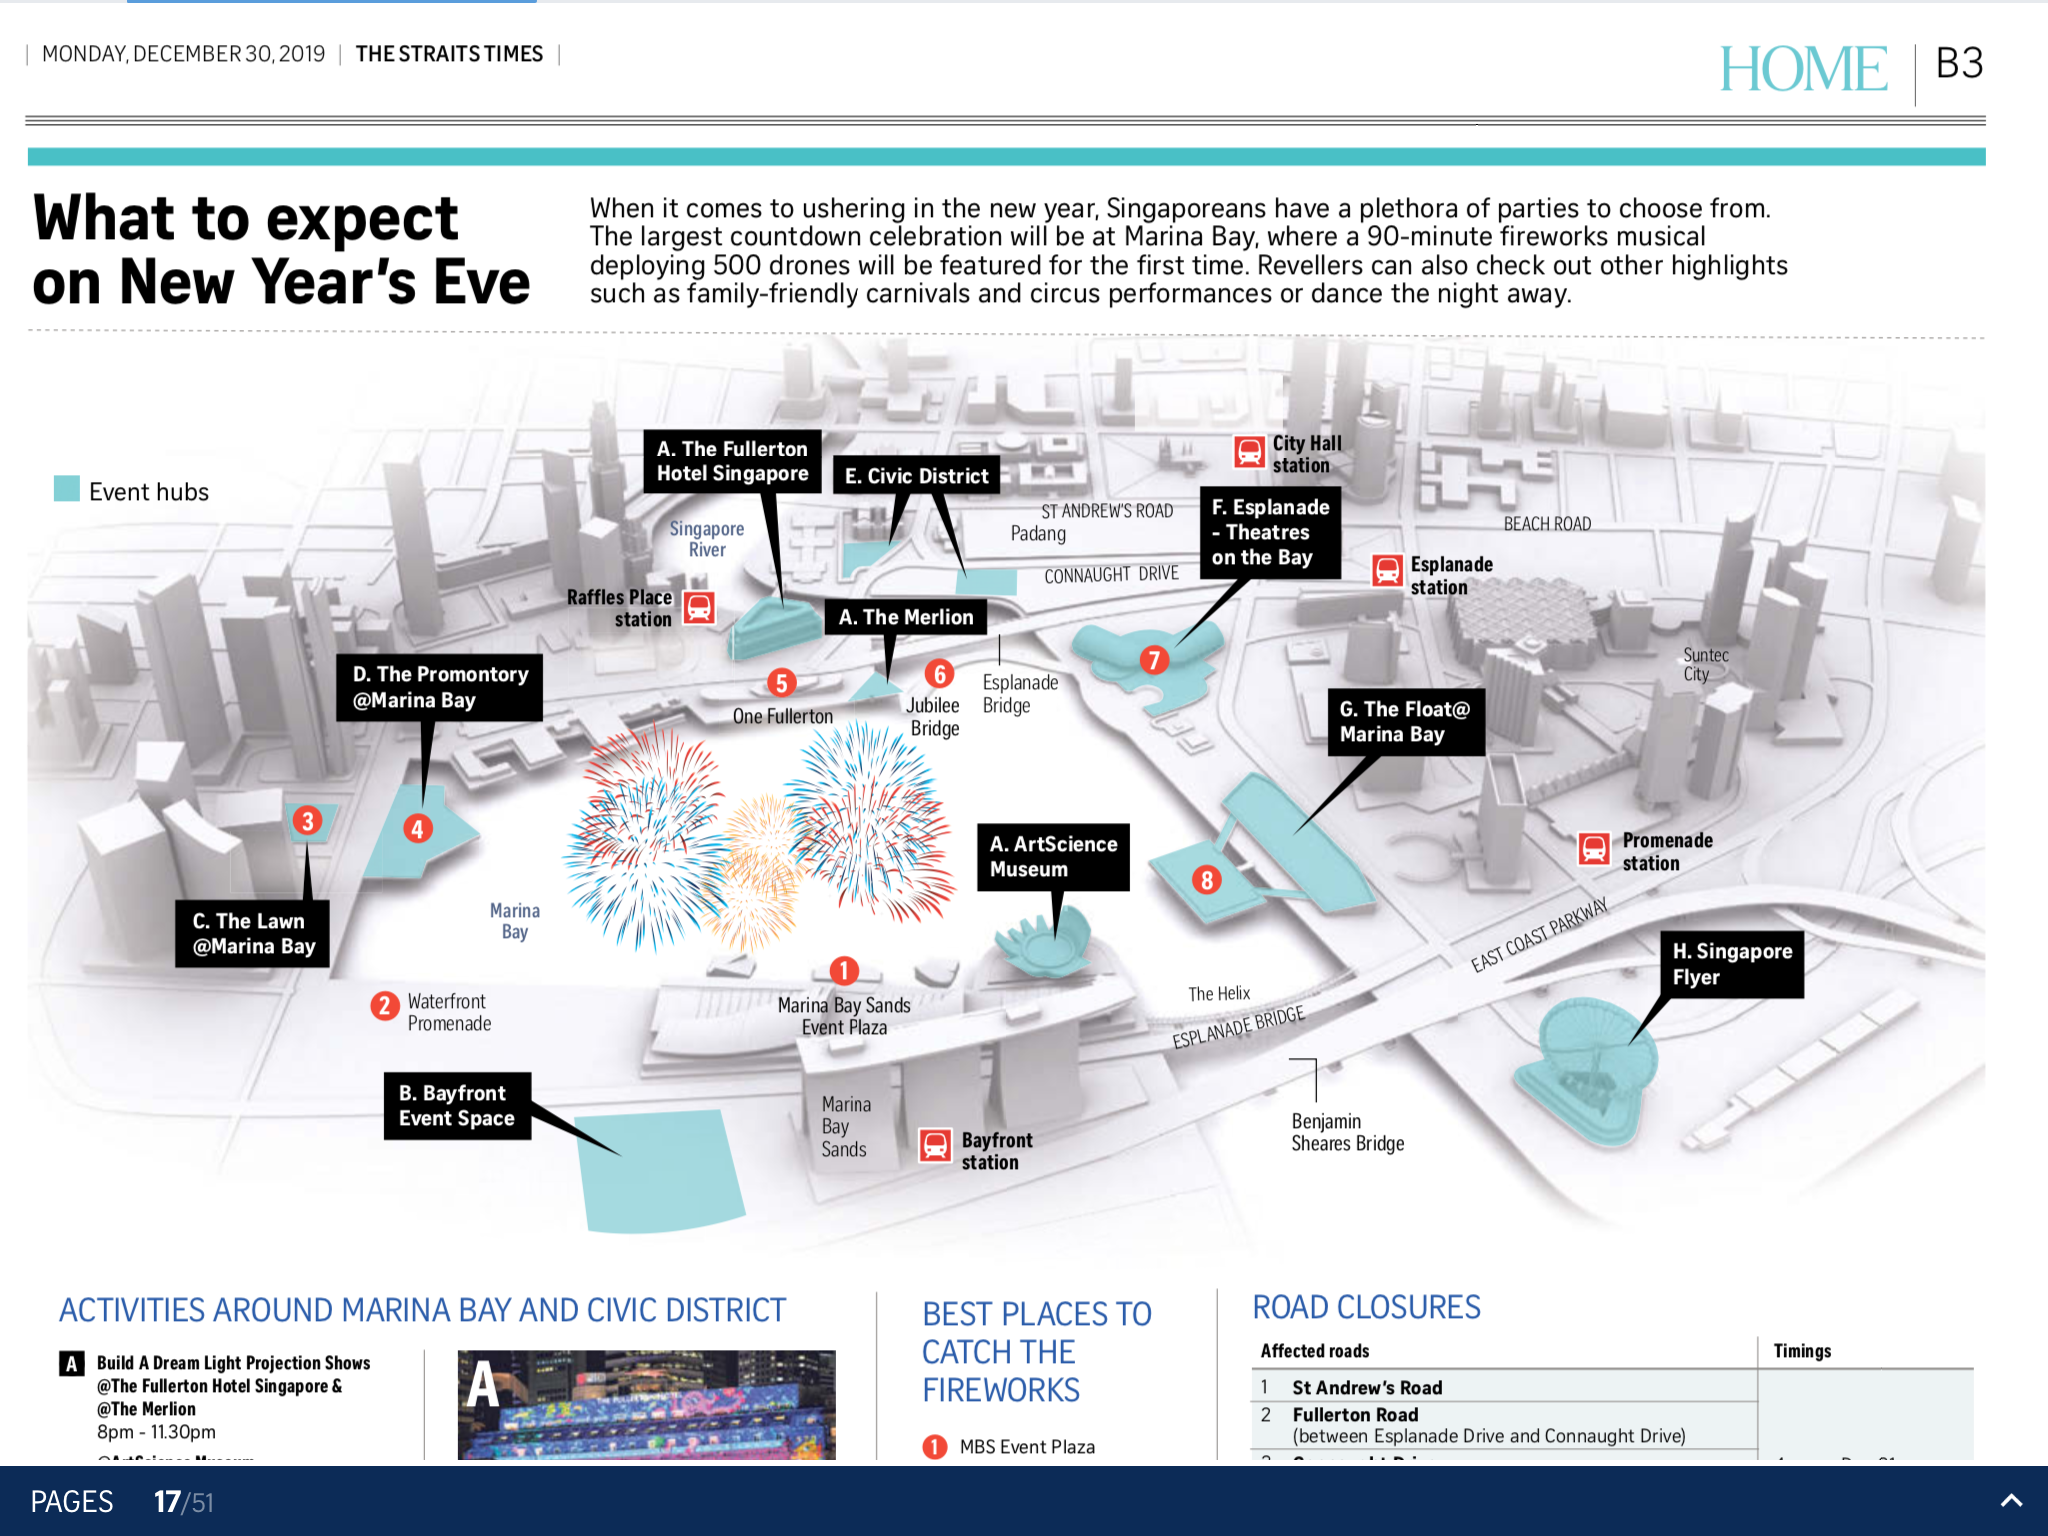Headline: (24, 177, 539, 319), (56, 1291, 793, 1338), (916, 1294, 1168, 1409), (1247, 1288, 1488, 1333)
Illustration: (15, 334, 1987, 1279)
Image: (1245, 1338, 1987, 1468), (452, 1347, 839, 1463)
Text: (581, 190, 1801, 310), (53, 1346, 392, 1442), (913, 1428, 1106, 1473)
